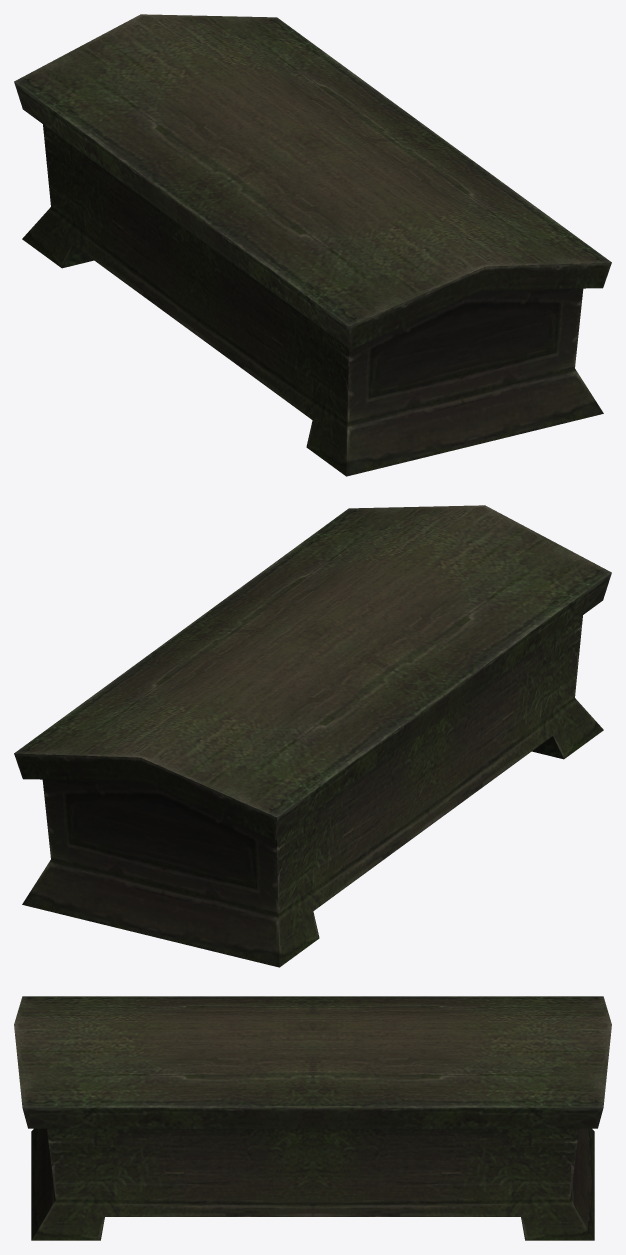
File: YZ_guancai.FBX
3 renders of one model, top to bottom at view 1: azimuth 30°, elevation 25°; view 2: azimuth 150°, elevation 25°; view 3: azimuth 270°, elevation 25°, orthographic. The views are drawn at different scales.
Parts seen in each view (by area): view 1: YZ_guancai; view 2: YZ_guancai; view 3: YZ_guancai.
Boxes of the visible parts, bbox=[...] form: YZ_guancai: bbox=[14, 14, 611, 476]; YZ_guancai: bbox=[14, 505, 611, 967]; YZ_guancai: bbox=[14, 996, 611, 1240].
Size of the model in its own units: 215 by 145 by 488.
